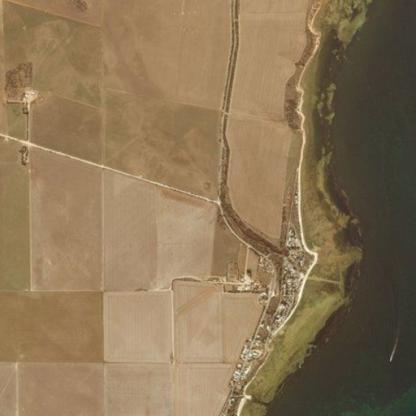ship: (385, 350, 396, 363)
